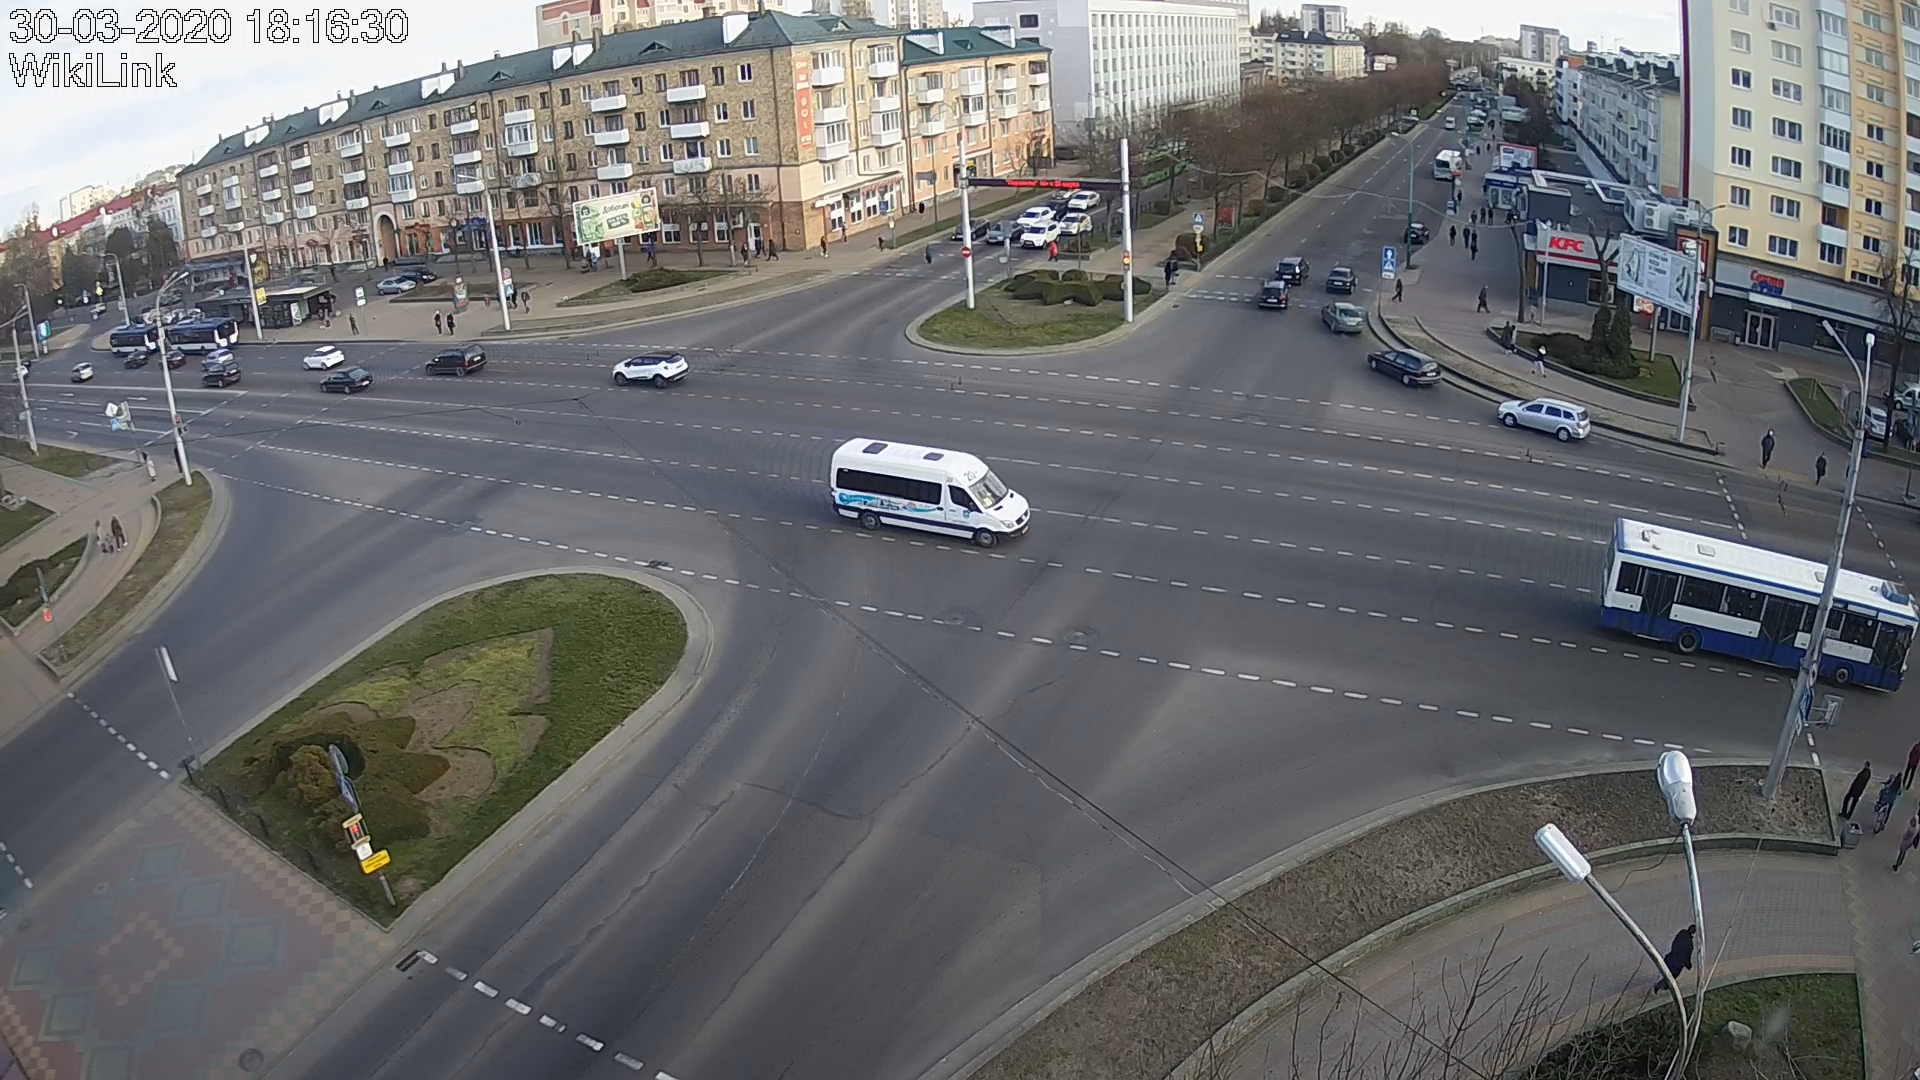bus: (1597, 517, 1920, 695), (170, 316, 239, 353)
car: (828, 436, 1031, 549), (1497, 396, 1592, 442), (612, 351, 688, 389), (1367, 348, 1443, 386), (425, 344, 488, 377), (320, 367, 373, 394), (1321, 301, 1364, 334), (1021, 222, 1060, 249), (202, 361, 243, 386), (1017, 206, 1055, 232), (303, 345, 345, 369), (949, 216, 992, 240), (1276, 256, 1309, 286), (984, 220, 1025, 244), (1258, 280, 1288, 310), (1327, 266, 1358, 294), (1060, 212, 1092, 233)
